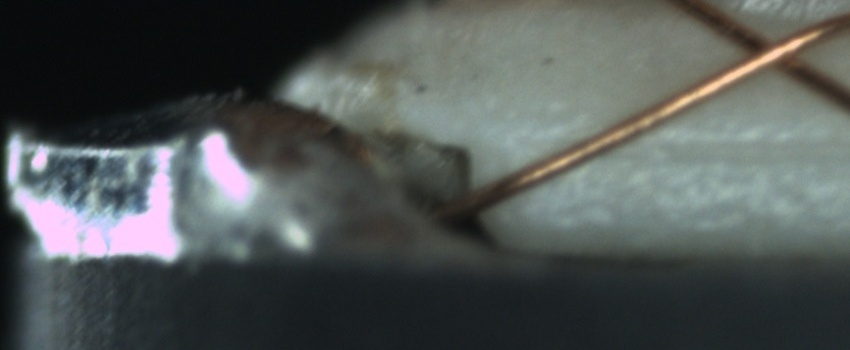CL: (716, 12, 823, 85)
DL: (562, 114, 847, 179)
